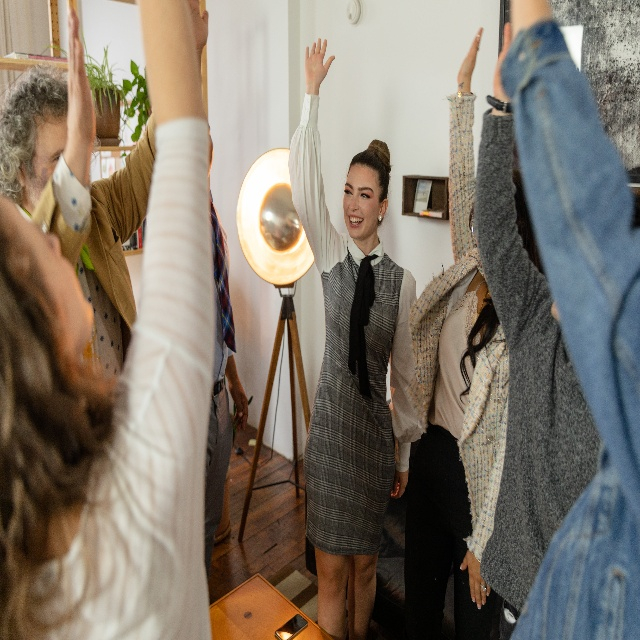Sin_guantes: (66, 0, 96, 146), (459, 549, 491, 610), (304, 37, 335, 92), (491, 20, 511, 105), (457, 27, 485, 84), (228, 379, 249, 432), (191, 0, 209, 51), (390, 466, 410, 498)
